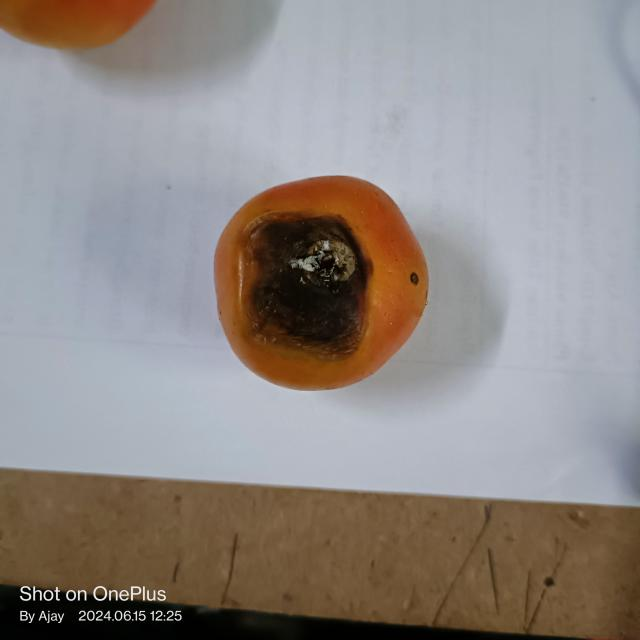Anthrocnose: (232, 216, 366, 360)
